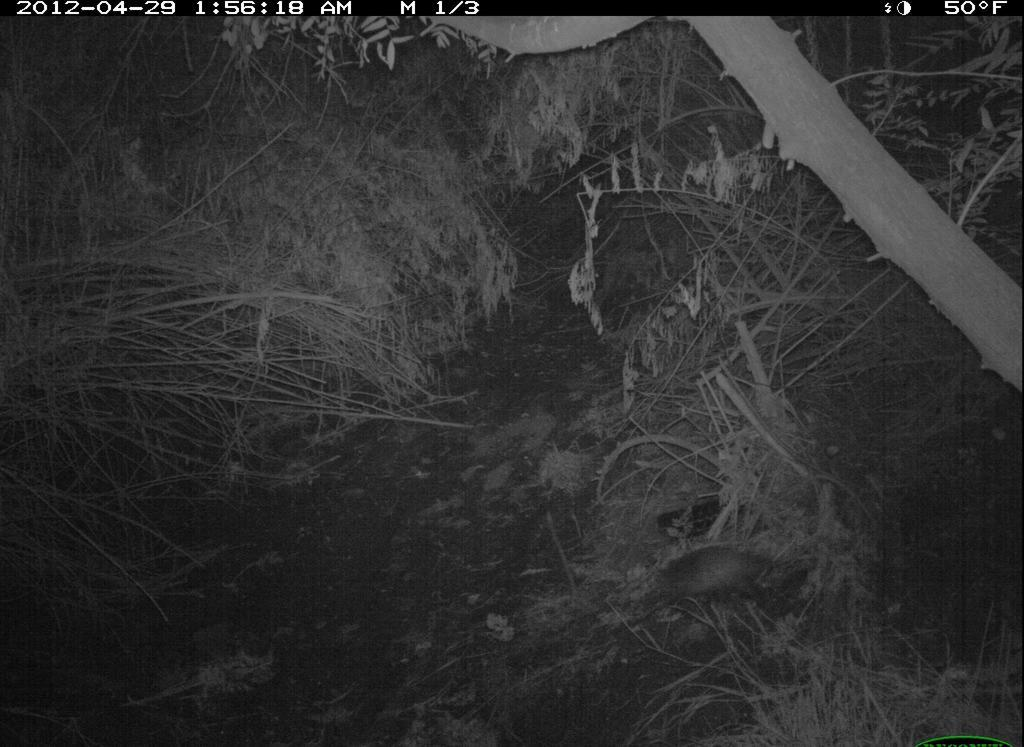opossum: (620, 524, 803, 630)
